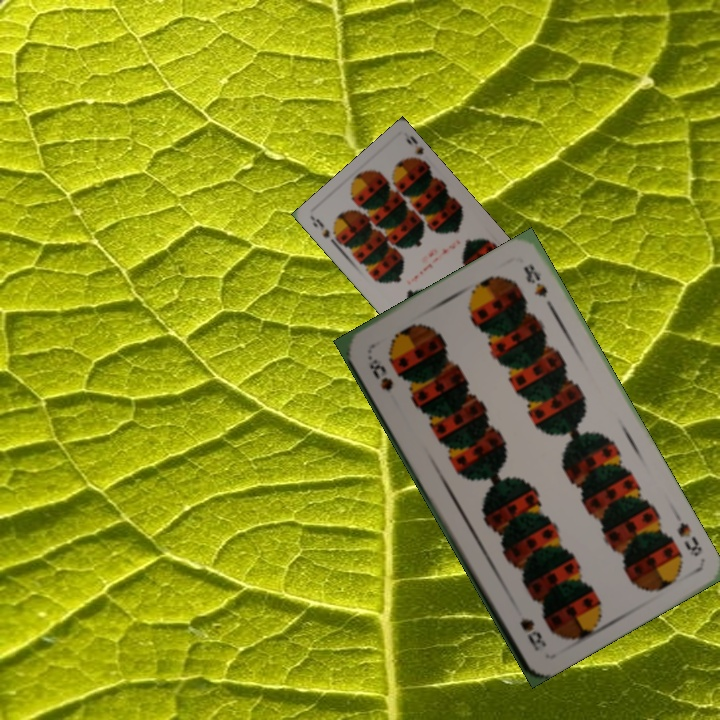S8: (363, 351, 396, 394), (673, 518, 705, 559)
S9: (309, 214, 339, 248)
